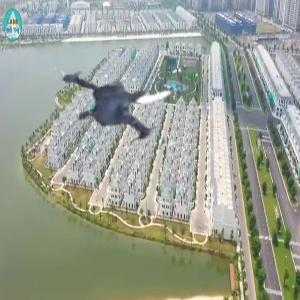drone: (51, 34, 192, 175)
